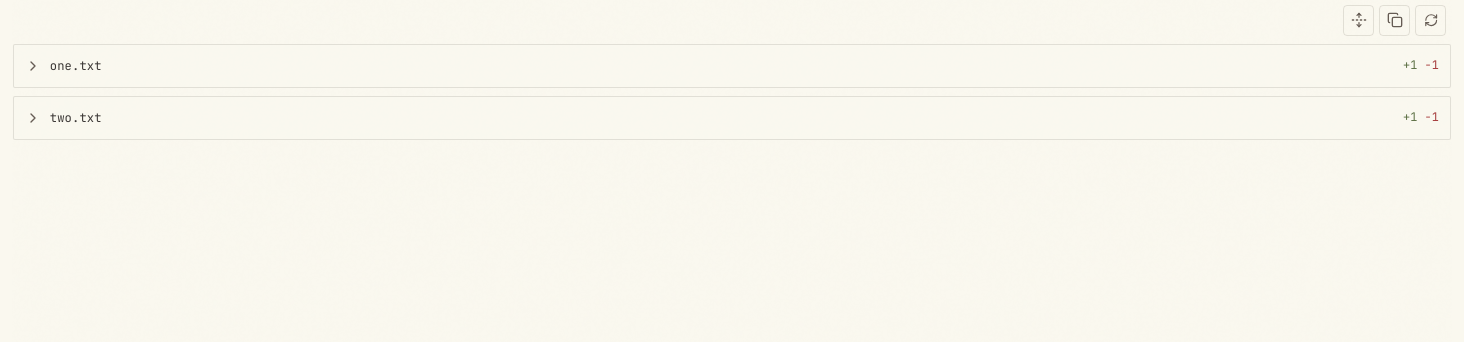
GitDiffModal › expands and collapses all file diffs from the toolbar toggle
Expected: the text "new one" is not shown
Expected: the text "new two" is not shown
What coordinates should you click on to do the following:
click the button named "Expand all file diffs"
I would click on:
 (1359, 20)
Its box is x1=1343 y1=5 x2=1374 y2=36.
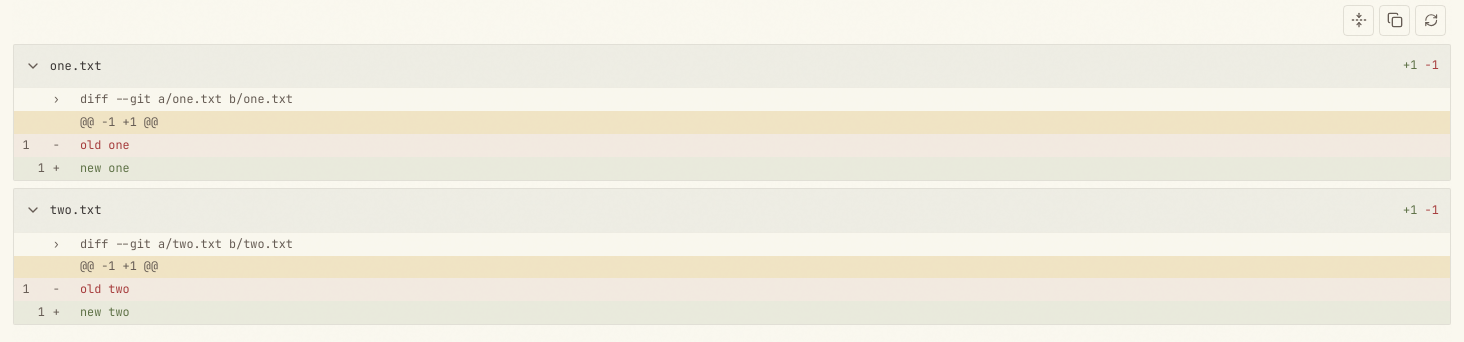
Result: the text "new one" is shown at x1=80 y1=160 x2=130 y2=176
Result: the text "new two" is shown at x1=80 y1=304 x2=130 y2=320
What coordinates should you click on to do the following:
click the button named "Collapse all file diffs"
I would click on:
 (1359, 20)
Its box is x1=1343 y1=5 x2=1374 y2=36.
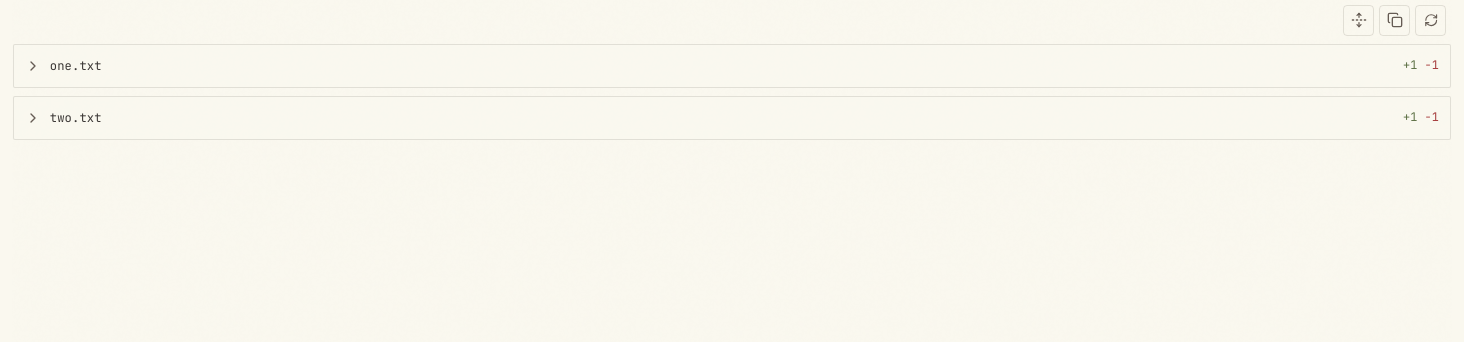
Result: the text "new one" is gone
Result: the text "new two" is gone
